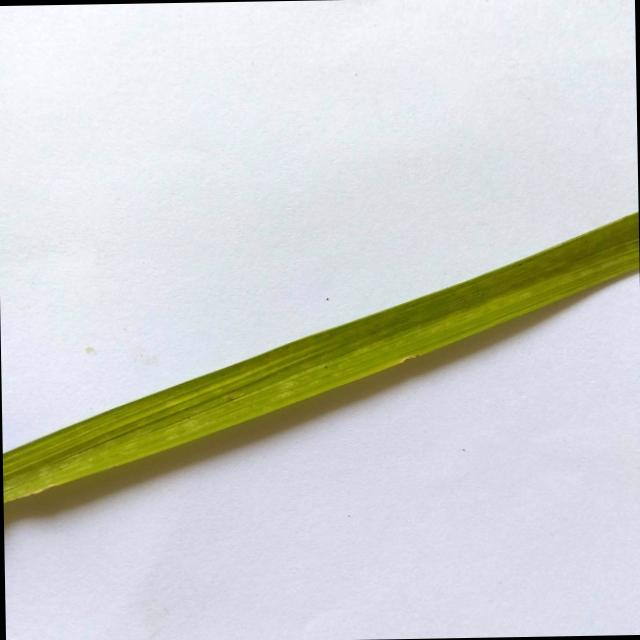Rice_Healthy: (2, 212, 639, 502)
